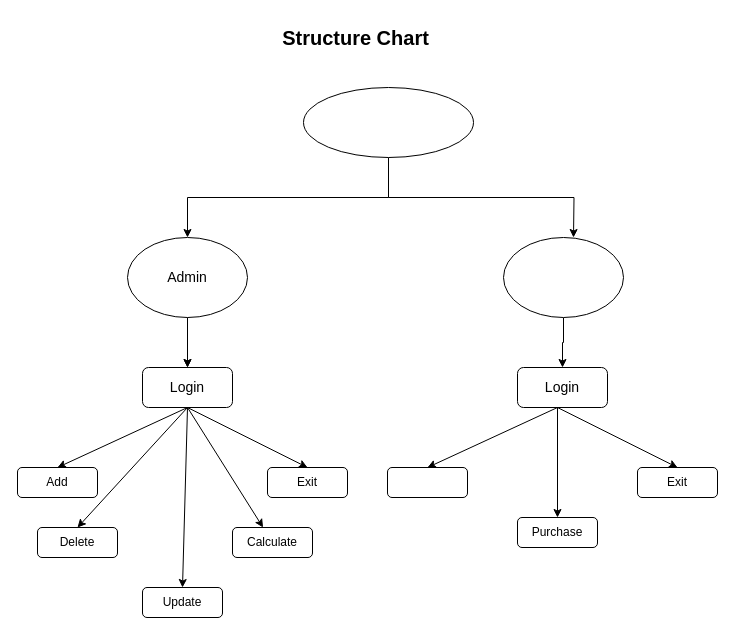
Image size: 735x635. Some labels were removed from this diagram. Here are the shapes that lost their labels. From the top down, the box of each, then its label:
(302, 86, 474, 158): Bookshop Management System
(502, 236, 624, 318): Customer
(386, 466, 468, 498): Search
